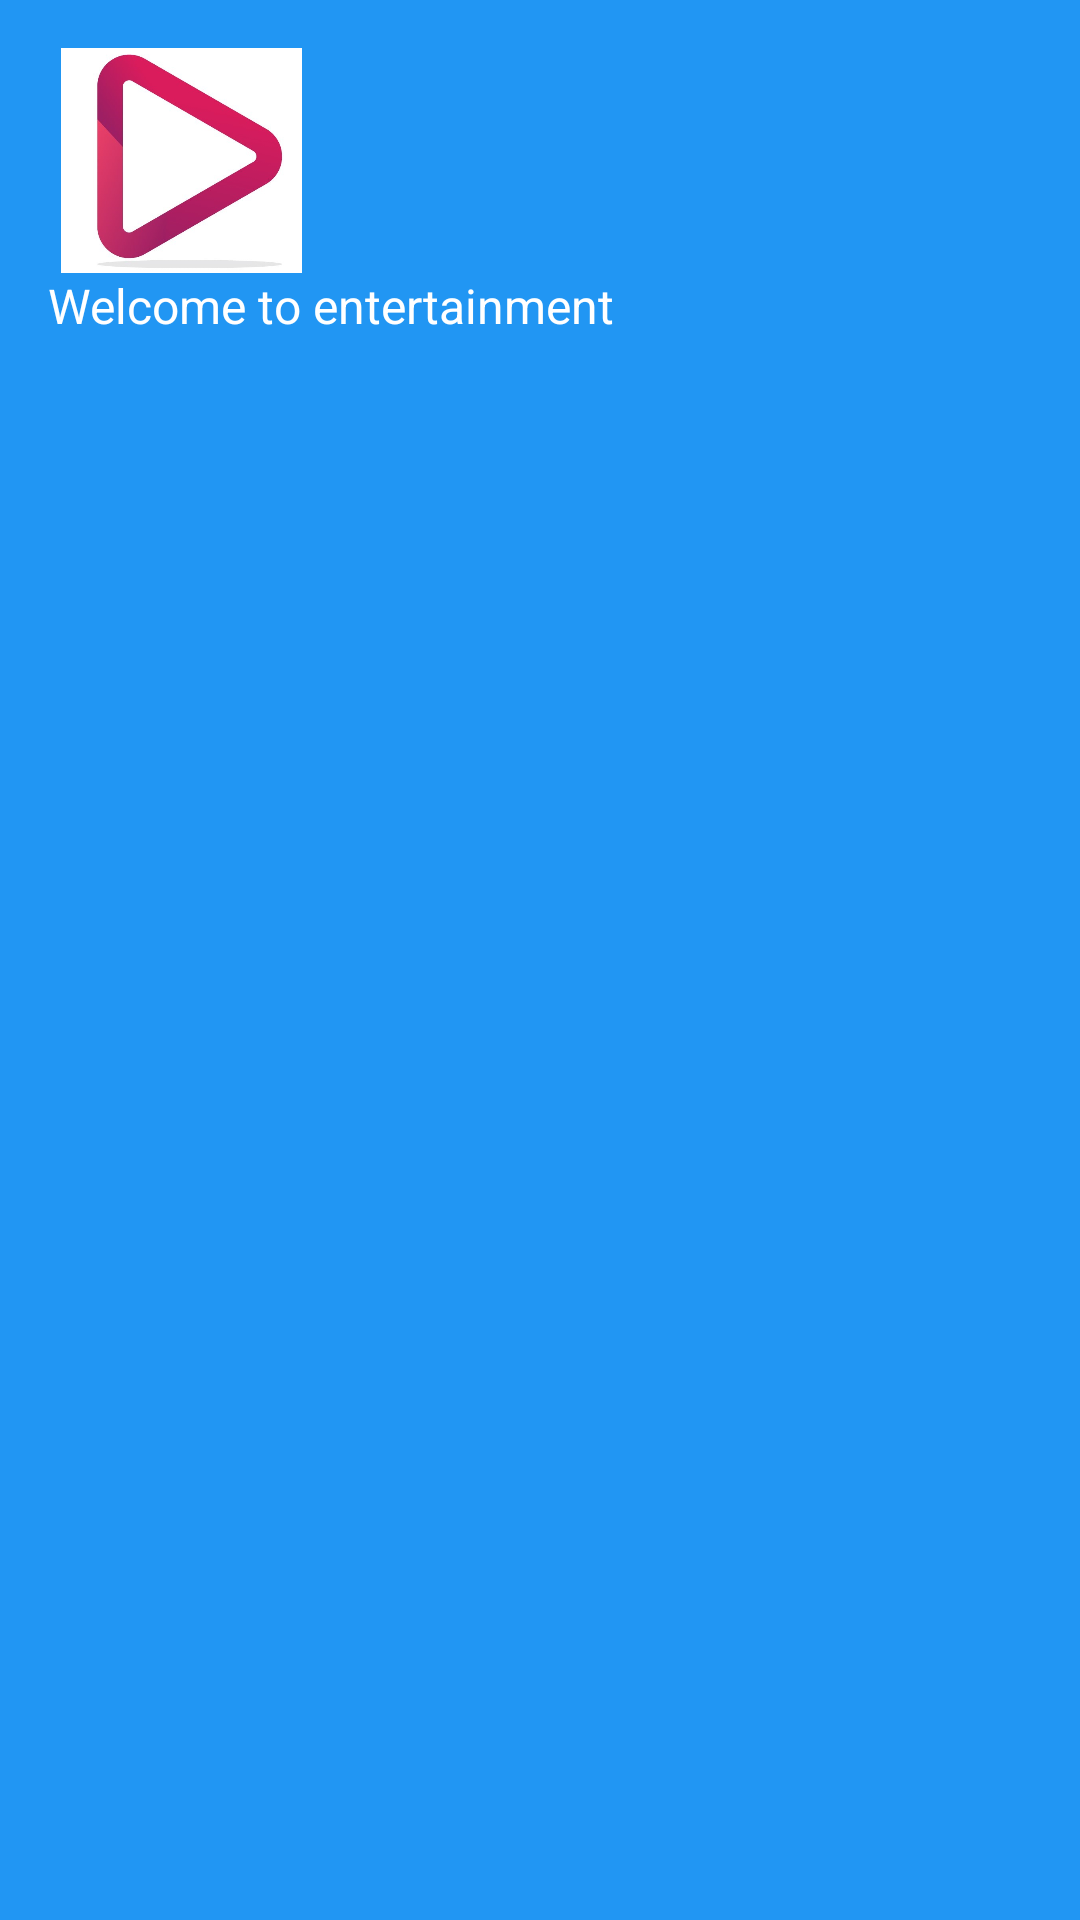

Icons on this 1080px×1920px Android screen, each with the point to tap as point (x, y):
video: point (181, 160)
